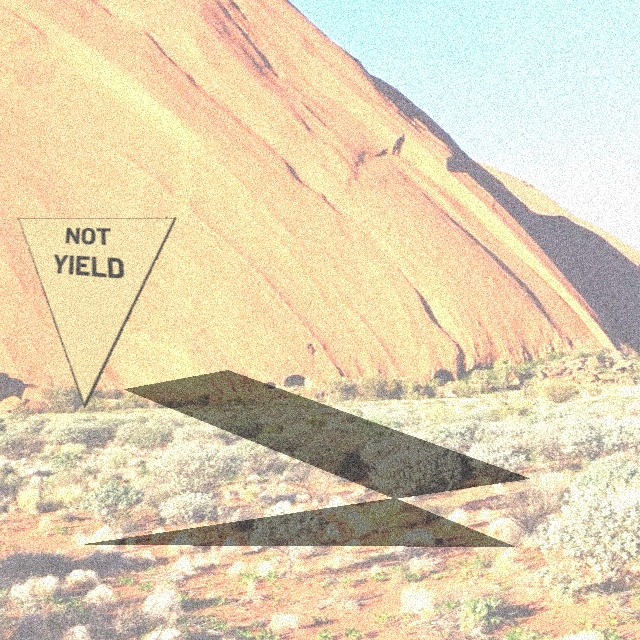NOT_YIELD: (17, 217, 176, 408)
